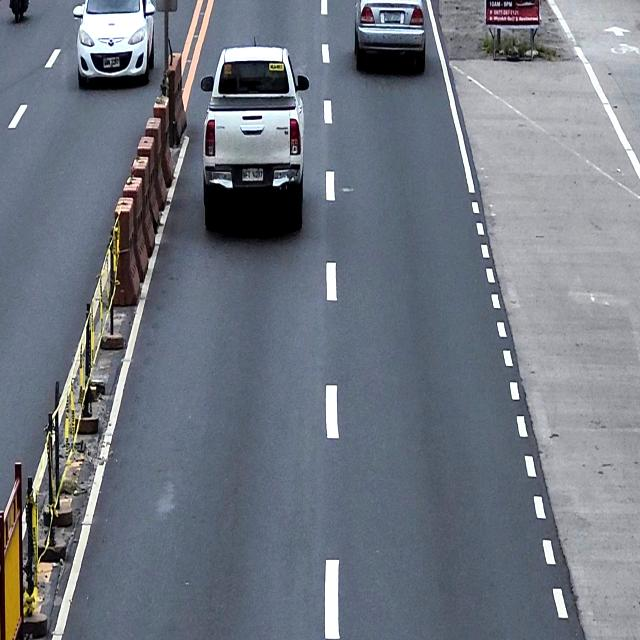Car: (200, 42, 310, 230), (72, 0, 154, 87), (354, 0, 426, 72)
License-Plate: (240, 166, 264, 184), (101, 54, 121, 70), (382, 9, 403, 24)
